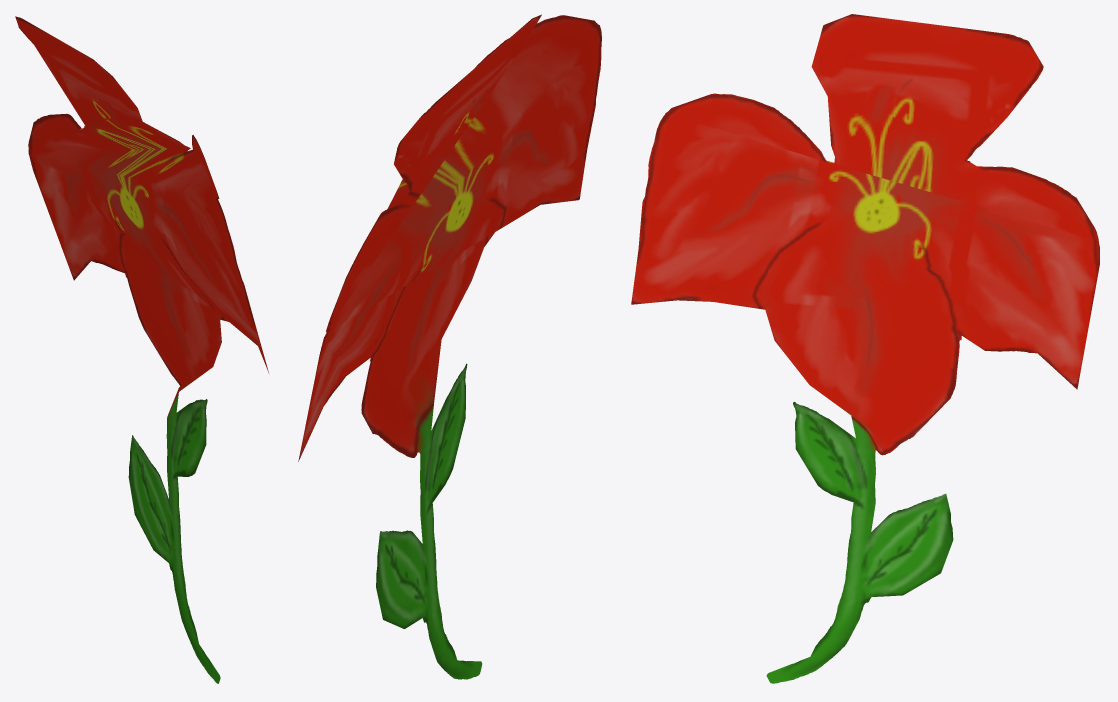
Rendered from flower.fbx.
The picture shows the model from 3 angles, left to right: view 1: azimuth 30°, elevation 25°; view 2: azimuth 150°, elevation 25°; view 3: azimuth 270°, elevation 25°; orthographic projection. The views are drawn at different scales.
Parts seen in each view (by area): view 1: flower; view 2: flower; view 3: flower.
Part boxes in pixels (x1,y1,x2,y2): flower: (15,16,268,683); flower: (298,14,601,679); flower: (631,14,1099,683).
Size of the model in its own units: 6.35 by 34.14 by 23.16.
1 material, 1 textured.
